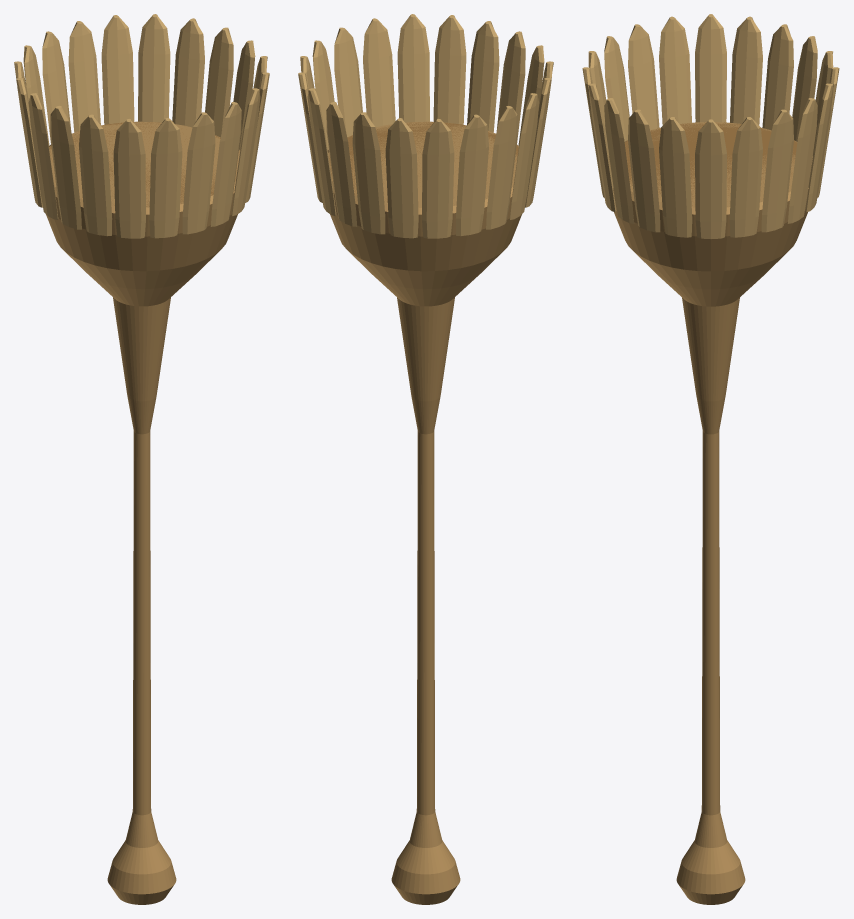
The picture shows the model from 3 angles, left to right: view 1: azimuth 30°, elevation 25°; view 2: azimuth 150°, elevation 25°; view 3: azimuth 270°, elevation 25°; orthographic projection.
Parts seen in each view (by area): view 1: twenty_stiff_flattened_upright_bracts, bulb_stem_and_calyx_full_organism, shallow_upper_surface; view 2: twenty_stiff_flattened_upright_bracts, bulb_stem_and_calyx_full_organism, shallow_upper_surface; view 3: twenty_stiff_flattened_upright_bracts, bulb_stem_and_calyx_full_organism, shallow_upper_surface.
Boxes of the visible parts, left/top/right/bottom form: twenty_stiff_flattened_upright_bracts: left=14, top=14, right=269, bottom=238; bulb_stem_and_calyx_full_organism: left=46, top=121, right=240, bottom=904; shallow_upper_surface: left=49, top=121, right=239, bottom=206; twenty_stiff_flattened_upright_bracts: left=298, top=14, right=553, bottom=238; bulb_stem_and_calyx_full_organism: left=327, top=121, right=521, bottom=904; shallow_upper_surface: left=328, top=121, right=518, bottom=201; twenty_stiff_flattened_upright_bracts: left=582, top=14, right=839, bottom=238; bulb_stem_and_calyx_full_organism: left=609, top=122, right=812, bottom=904; shallow_upper_surface: left=610, top=122, right=811, bottom=205.
Bounding box in the file's own units: 0.00784 × 0.028 × 0.00784.
